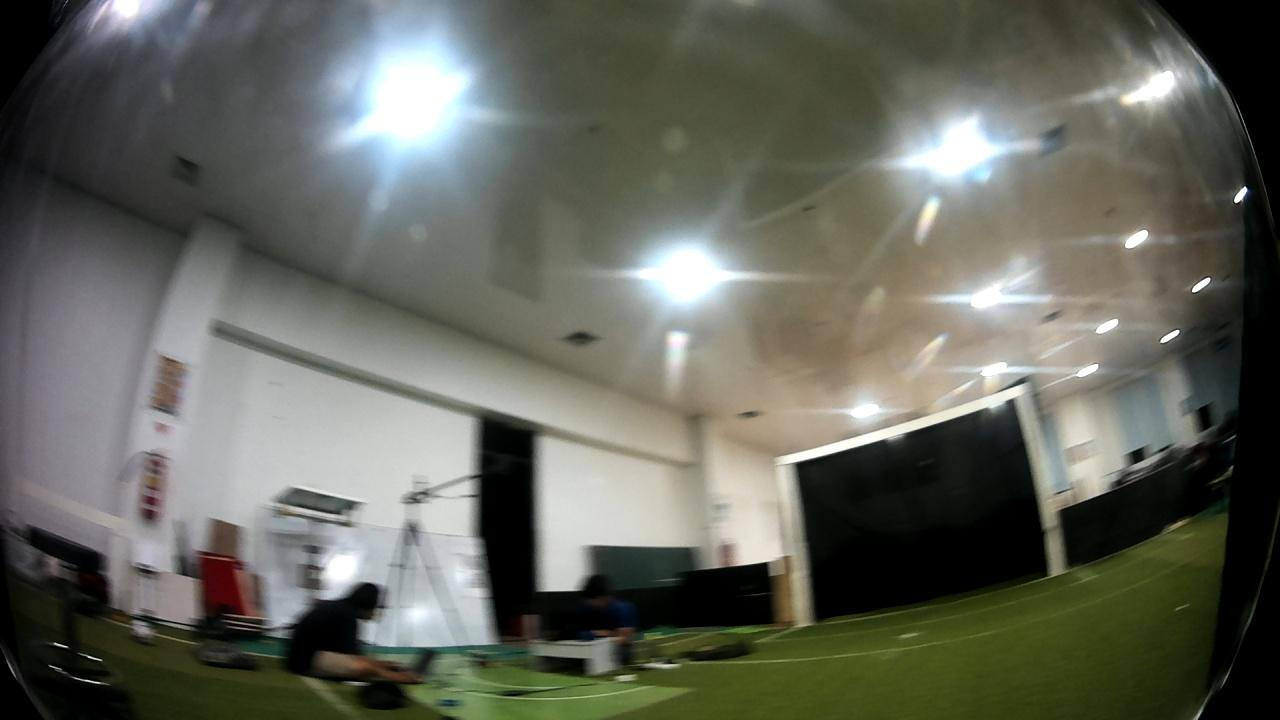ball: (127, 619, 159, 645)
